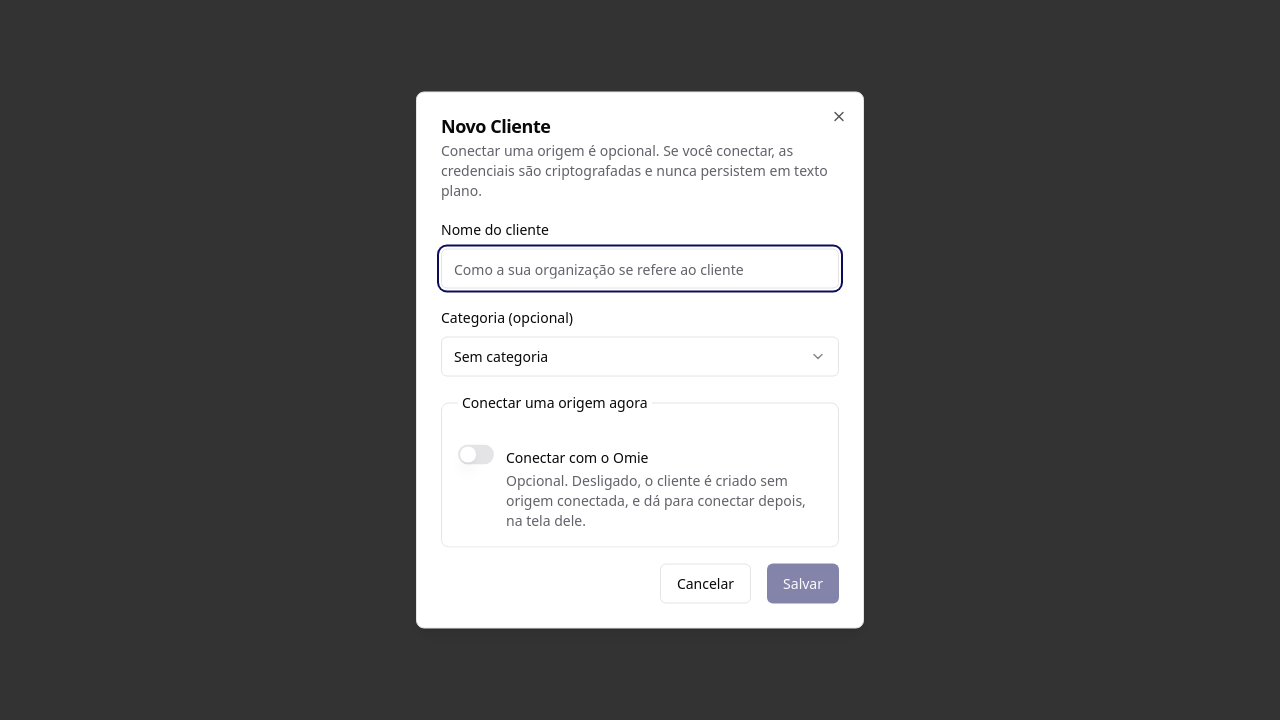
Scenario: Novo cliente › ligar o Omie mostra o campo, nascendo na data da compra
Click the switch named "Conectar com o Omie" at (476, 454), box top-left (458, 444), bottom-right (494, 464)
(page scrolled)
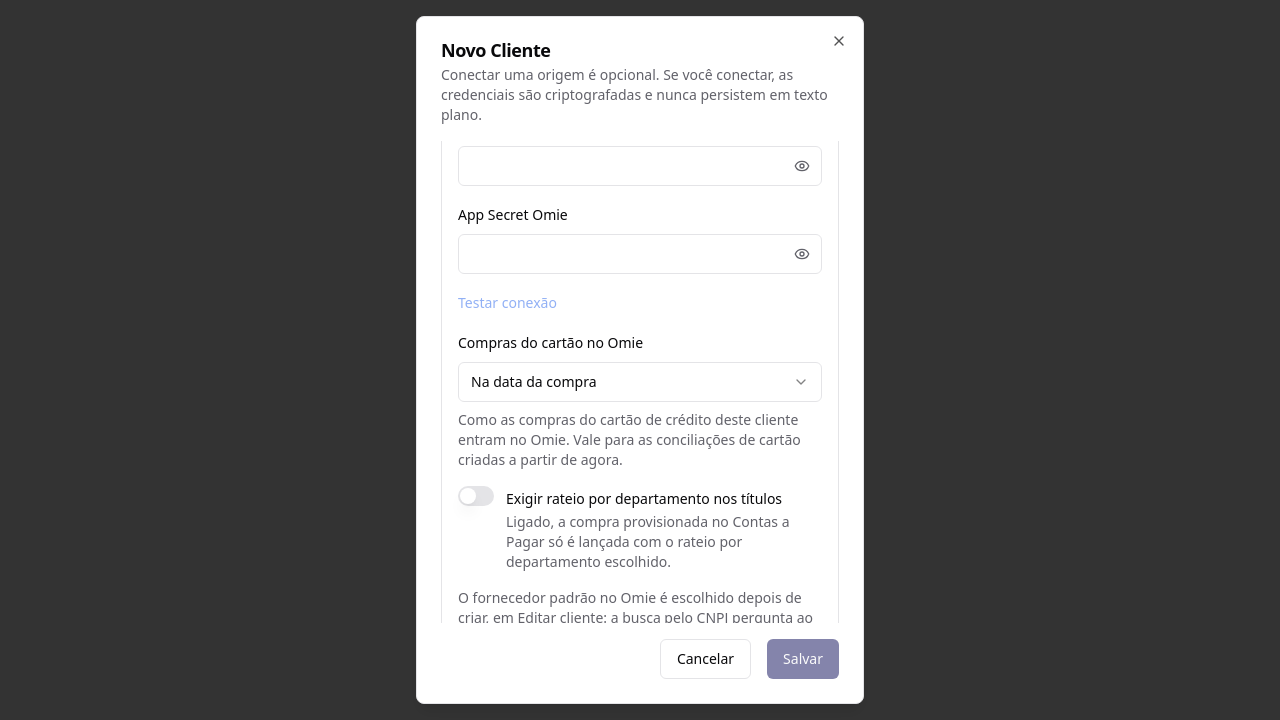
Expected: the dropdown named "Compras do cartão no Omie" reads "Na data da compra", top-left (458, 362), bottom-right (822, 402)
